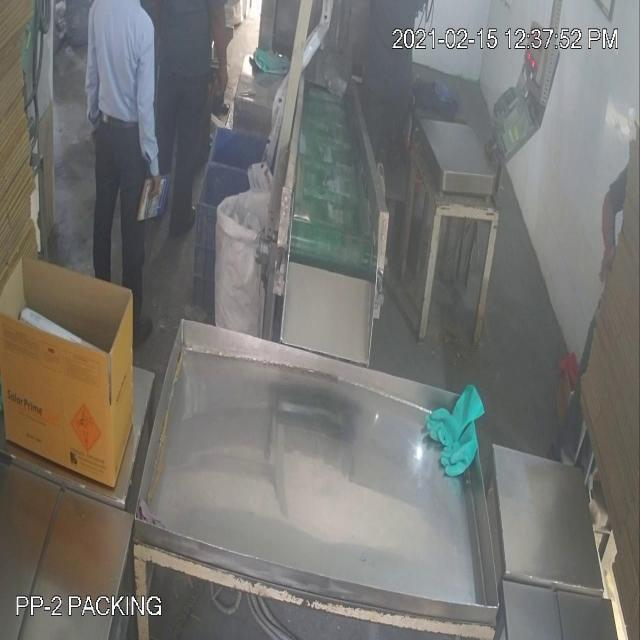No_Gloves: (22, 55, 610, 232)
